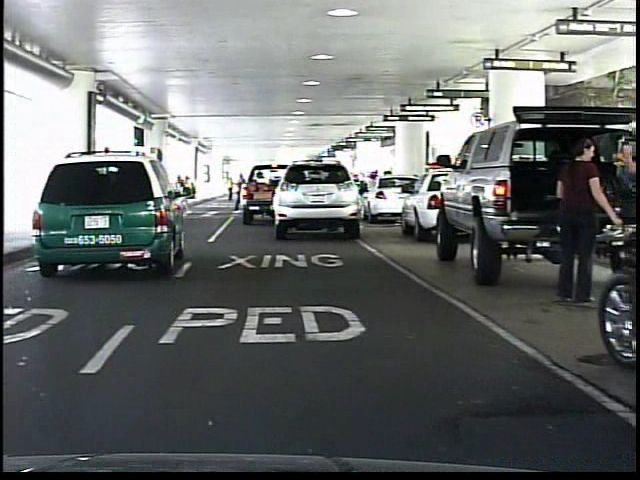person: (540, 135, 608, 311)
